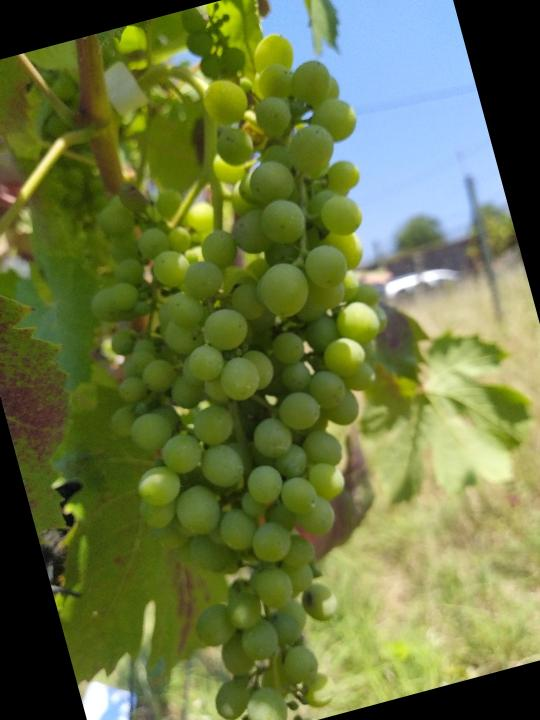grape: (9, 0, 502, 720)
